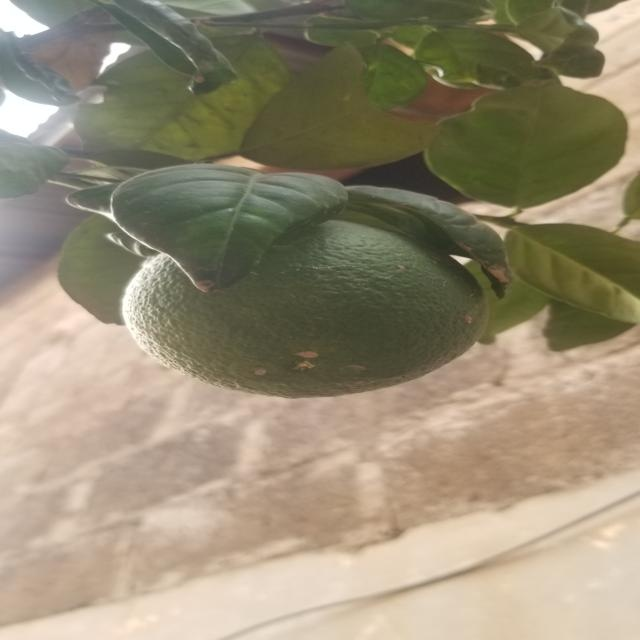agrume: (108, 208, 512, 416)
